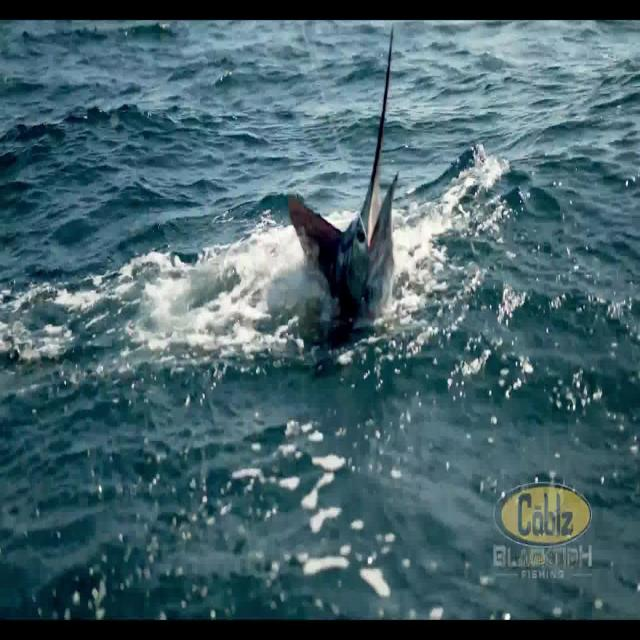Sail Fish: (287, 24, 400, 348)
